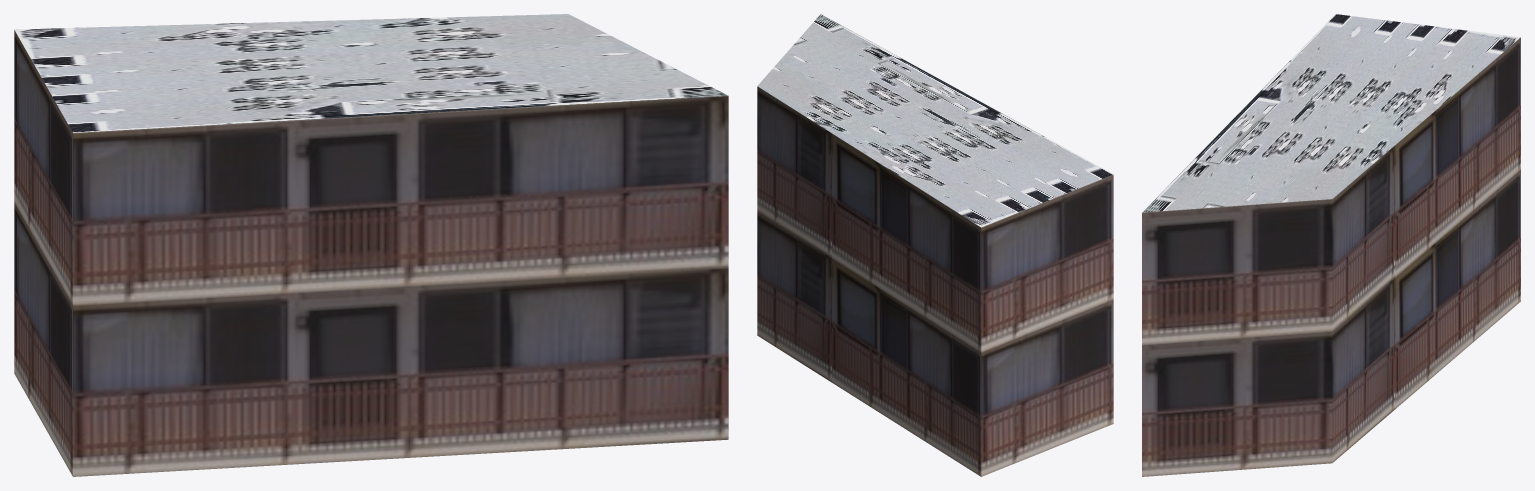
Rendered from ResTex__4647.fbx.
The picture shows the model from 3 angles, left to right: view 1: azimuth 30°, elevation 25°; view 2: azimuth 150°, elevation 25°; view 3: azimuth 270°, elevation 25°; orthographic projection. The views are drawn at different scales.
Parts seen in each view (by area): view 1: CityEngineMaterial_6_m, CityEngineMaterial_8_m; view 2: CityEngineMaterial_6_m, CityEngineMaterial_8_m; view 3: CityEngineMaterial_6_m, CityEngineMaterial_8_m.
Boxes of the visible parts, x1,y1,x2,y2 form: CityEngineMaterial_6_m: [14, 30, 728, 476]; CityEngineMaterial_8_m: [14, 14, 727, 132]; CityEngineMaterial_6_m: [757, 86, 1113, 476]; CityEngineMaterial_8_m: [757, 14, 1113, 227]; CityEngineMaterial_6_m: [1142, 37, 1520, 476]; CityEngineMaterial_8_m: [1142, 14, 1520, 212].
Size of the model in its own units: 9.67 by 6 by 7.79.
Materials: 2 (2 with a texture image).
